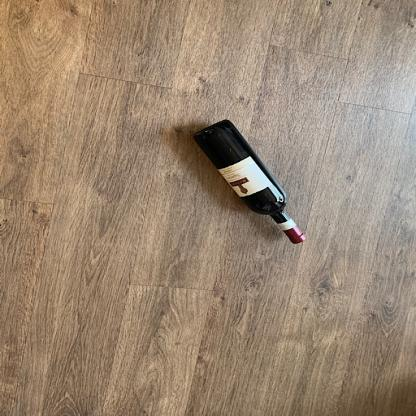trash: (191, 117, 312, 247)
